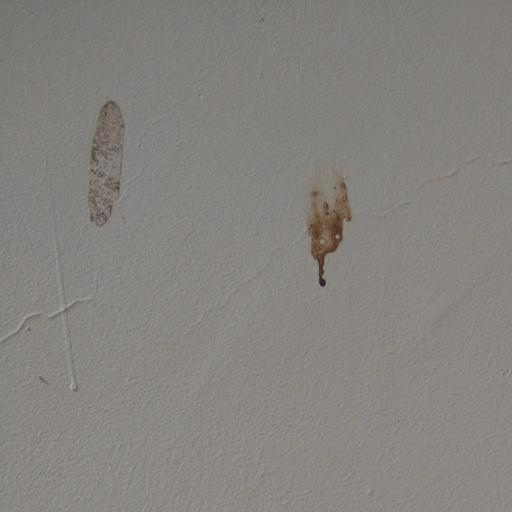stain: (69, 41, 153, 249), (289, 146, 355, 296)
